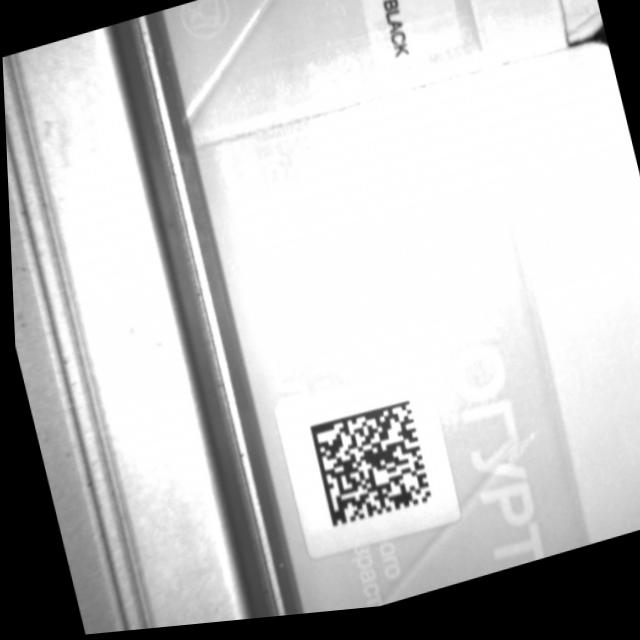datamatrix: (304, 402, 430, 540)
